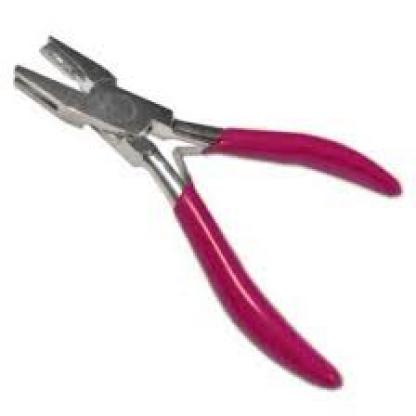Pliers: (7, 30, 406, 397)
